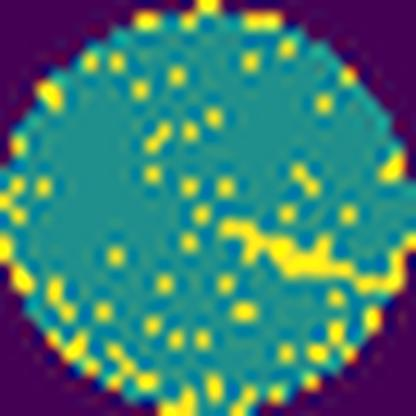Scratch: (220, 214, 402, 300)
